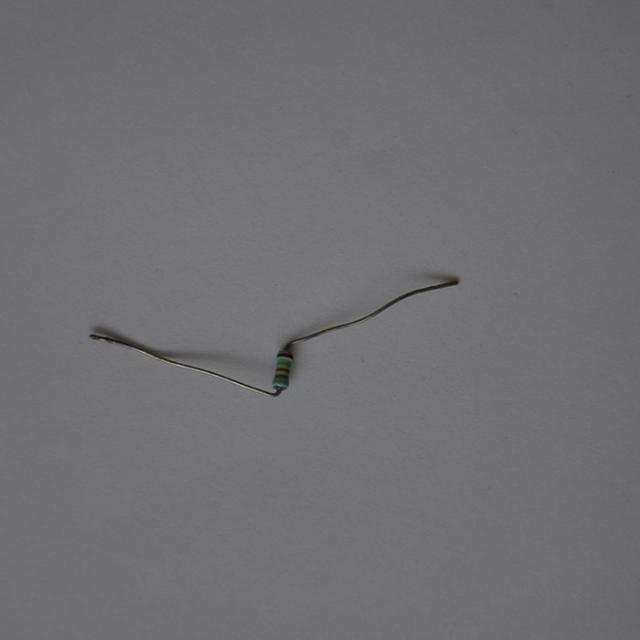gold: (274, 374, 289, 378)
orange: (275, 368, 290, 372)
red: (277, 353, 292, 358)
resistor: (269, 348, 299, 394)
yellow: (277, 361, 290, 366)
